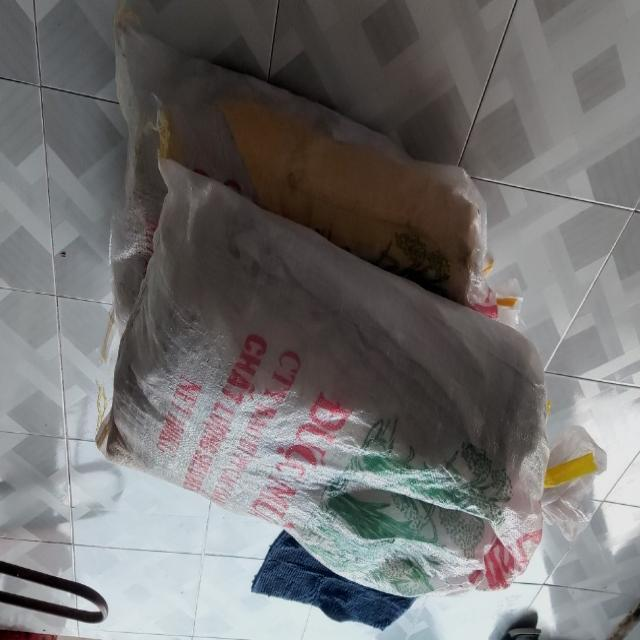gunny_bag: (99, 158, 549, 597), (110, 5, 495, 331)
